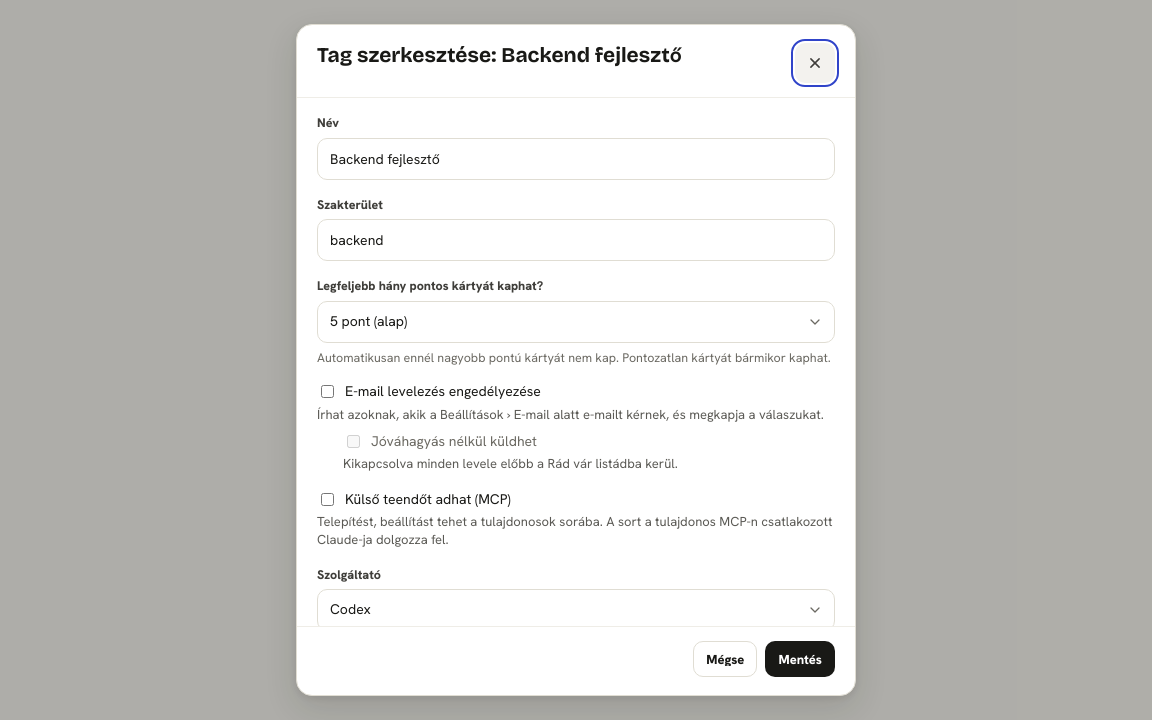
Test: developer complexity limits › keeps the dialog and choice on a server refusal
Select "8 pont" in the dropdown labelled "Legfeljebb hány pontos kártyát kaphat?" at (576, 322), box [317,300,835,342]
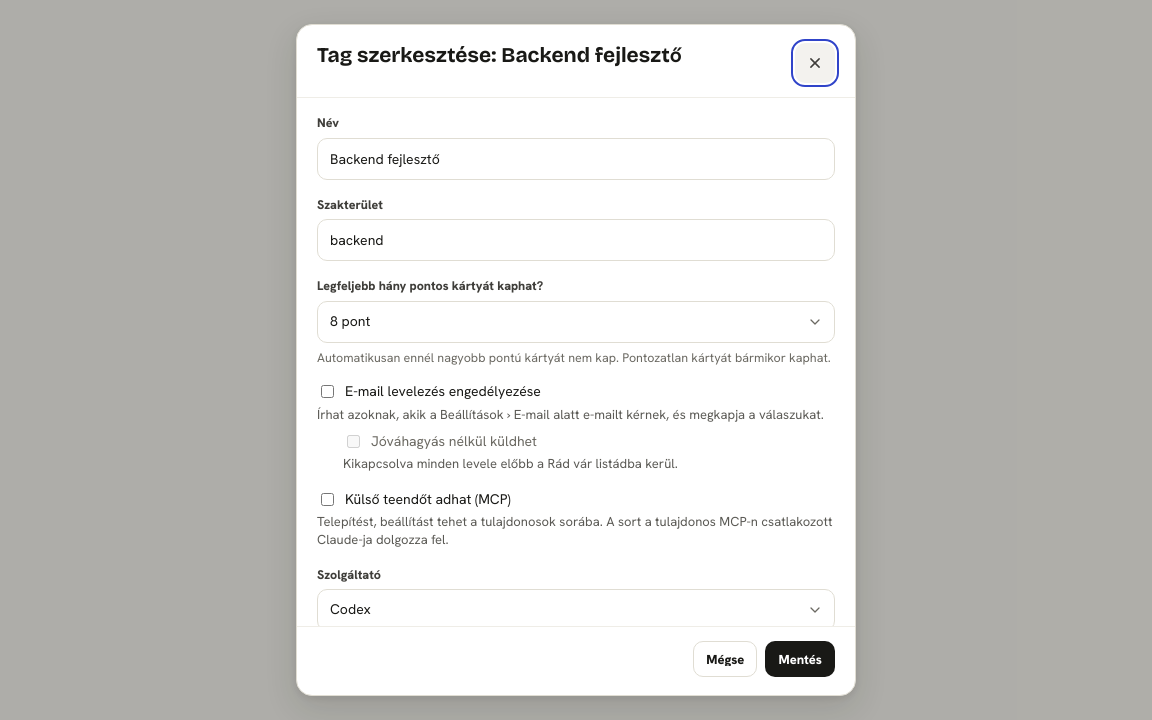
Click the button "Mentés" at (800, 659), box [765,641,835,677]
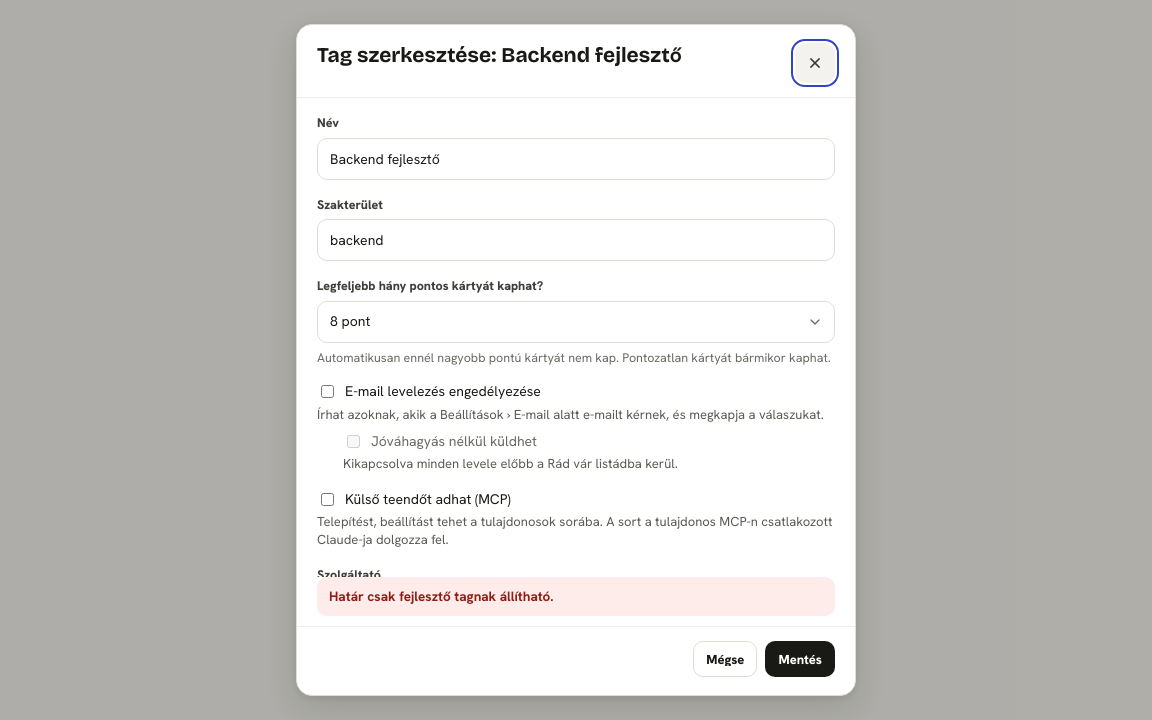
Check: the message "Határ csak fejlesztő tagnak állítható." is shown, box [317,577,835,616]
